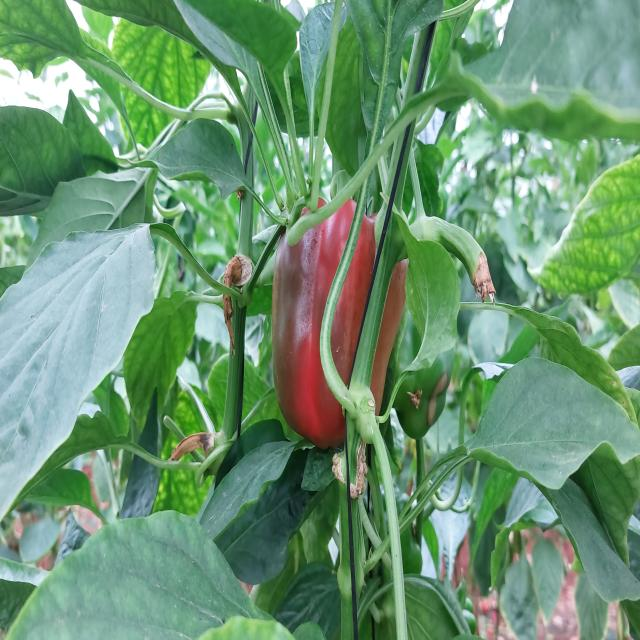BrownishRed--Can-be-Harvested: (282, 197, 414, 457)
